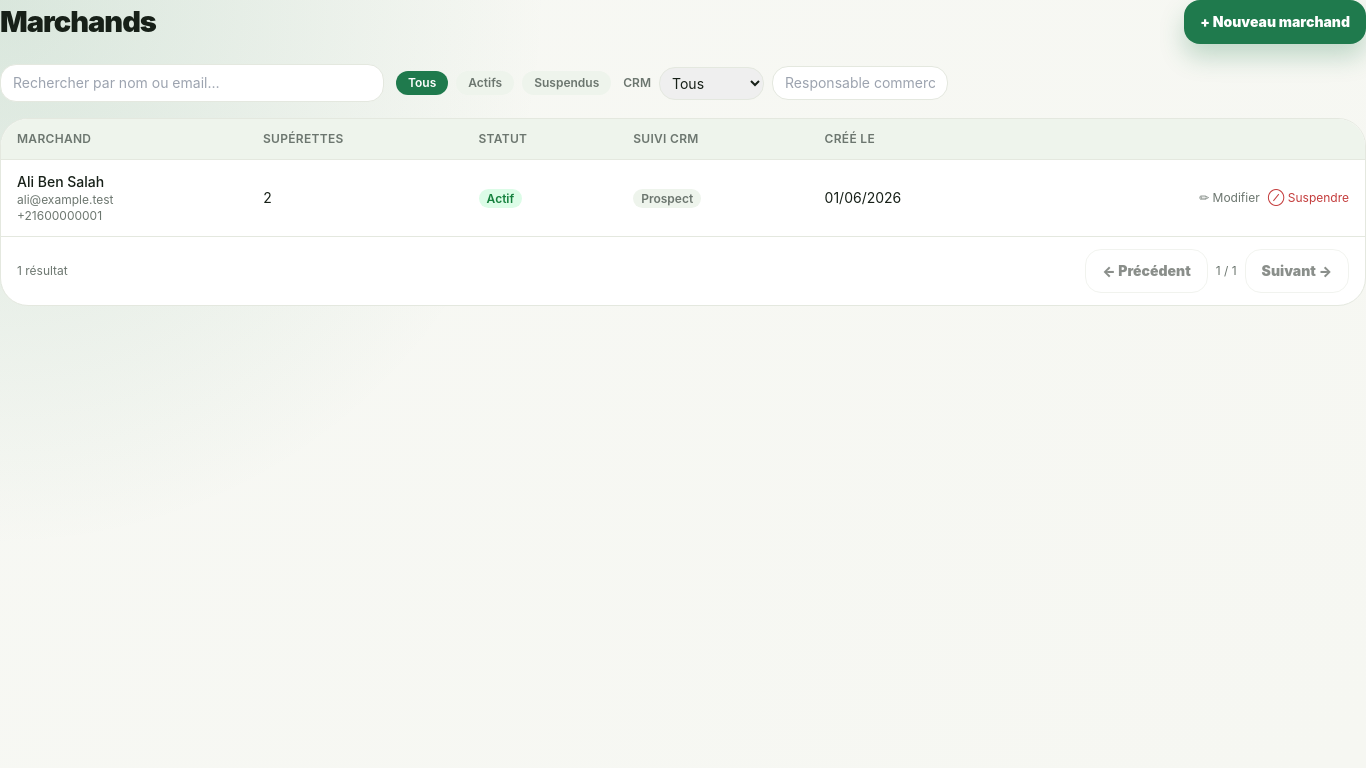
MarchandsPage › affiche le journal opérationnel dans la fiche marchand admin
The width and height of the screenshot is (1366, 768).
Expected: the text "Ali Ben Salah" is shown, [17, 173, 104, 190]
Click the button "✏ Modifier": click(1229, 198) [1199, 190, 1260, 206]
(page scrolled)
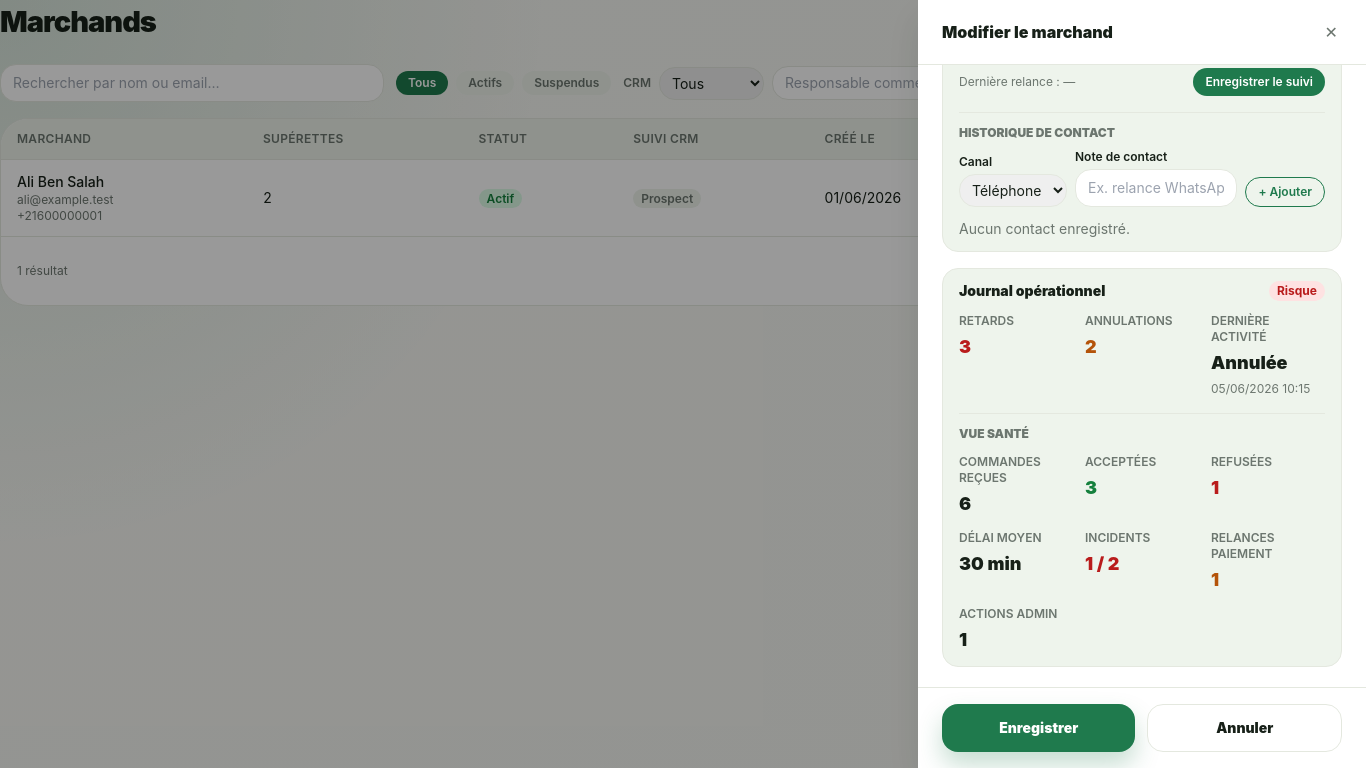
Expected: the text "Journal opérationnel" is shown, [959, 282, 1105, 299]
Expected: the text "Retards" is shown, [959, 313, 1014, 328]
Expected: the text "3" is shown 2 times, [959, 336, 971, 357]; [1085, 477, 1097, 498]
